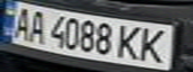0: (60, 16, 81, 51)
4: (45, 12, 66, 47)
8: (93, 20, 118, 56), (78, 18, 100, 54)
A: (6, 4, 36, 40), (24, 9, 51, 44)
K: (133, 25, 175, 64), (112, 22, 148, 61)
